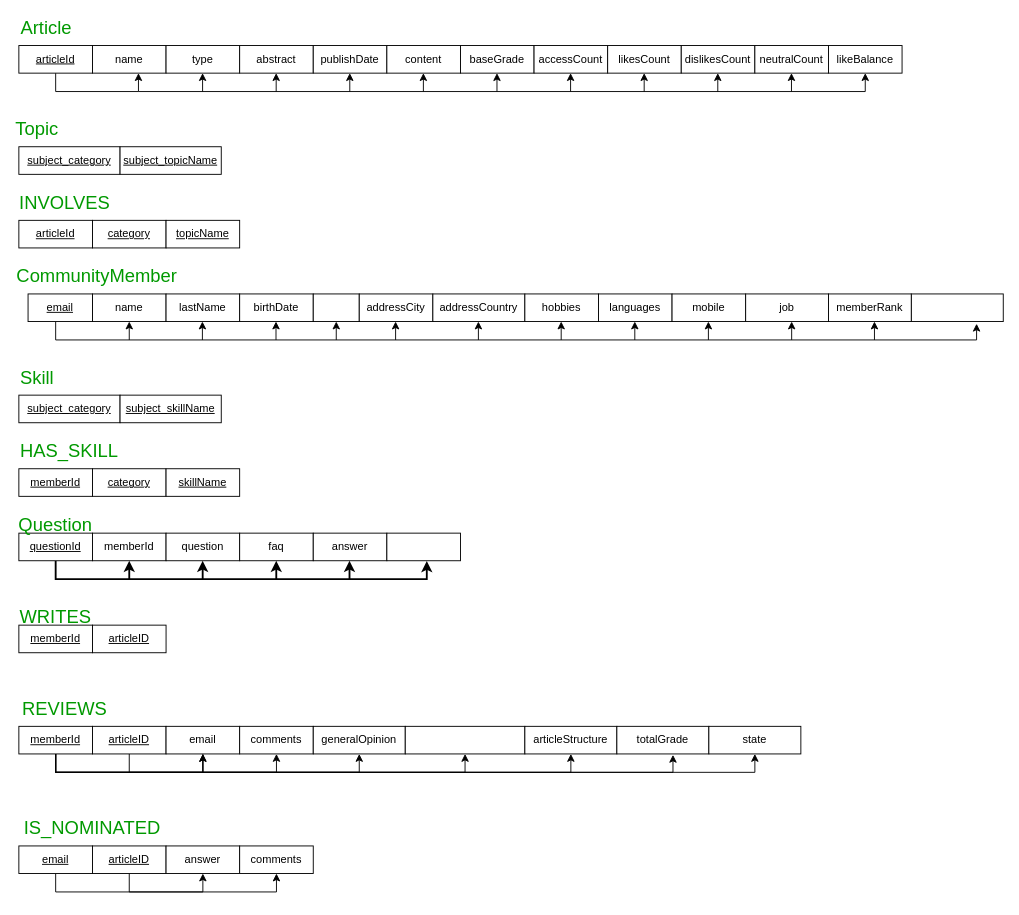
The diagram is 1019 pixels wide and 915 high, and some of its shapes have lost their labels. Each missing label, with the centre of its shape:
"age" belongs at [335,307].
"communityContribution" belongs at [464,739].
"points" belongs at [956,307].
"status" belongs at [423,546].
